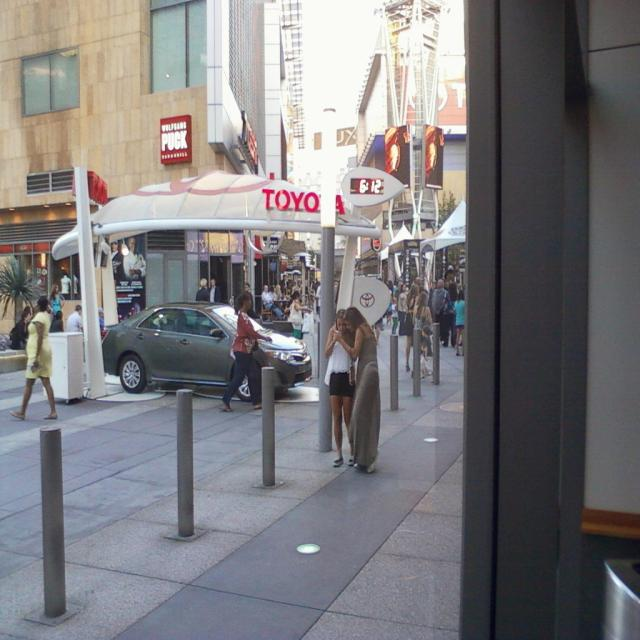car: (103, 299, 313, 403)
